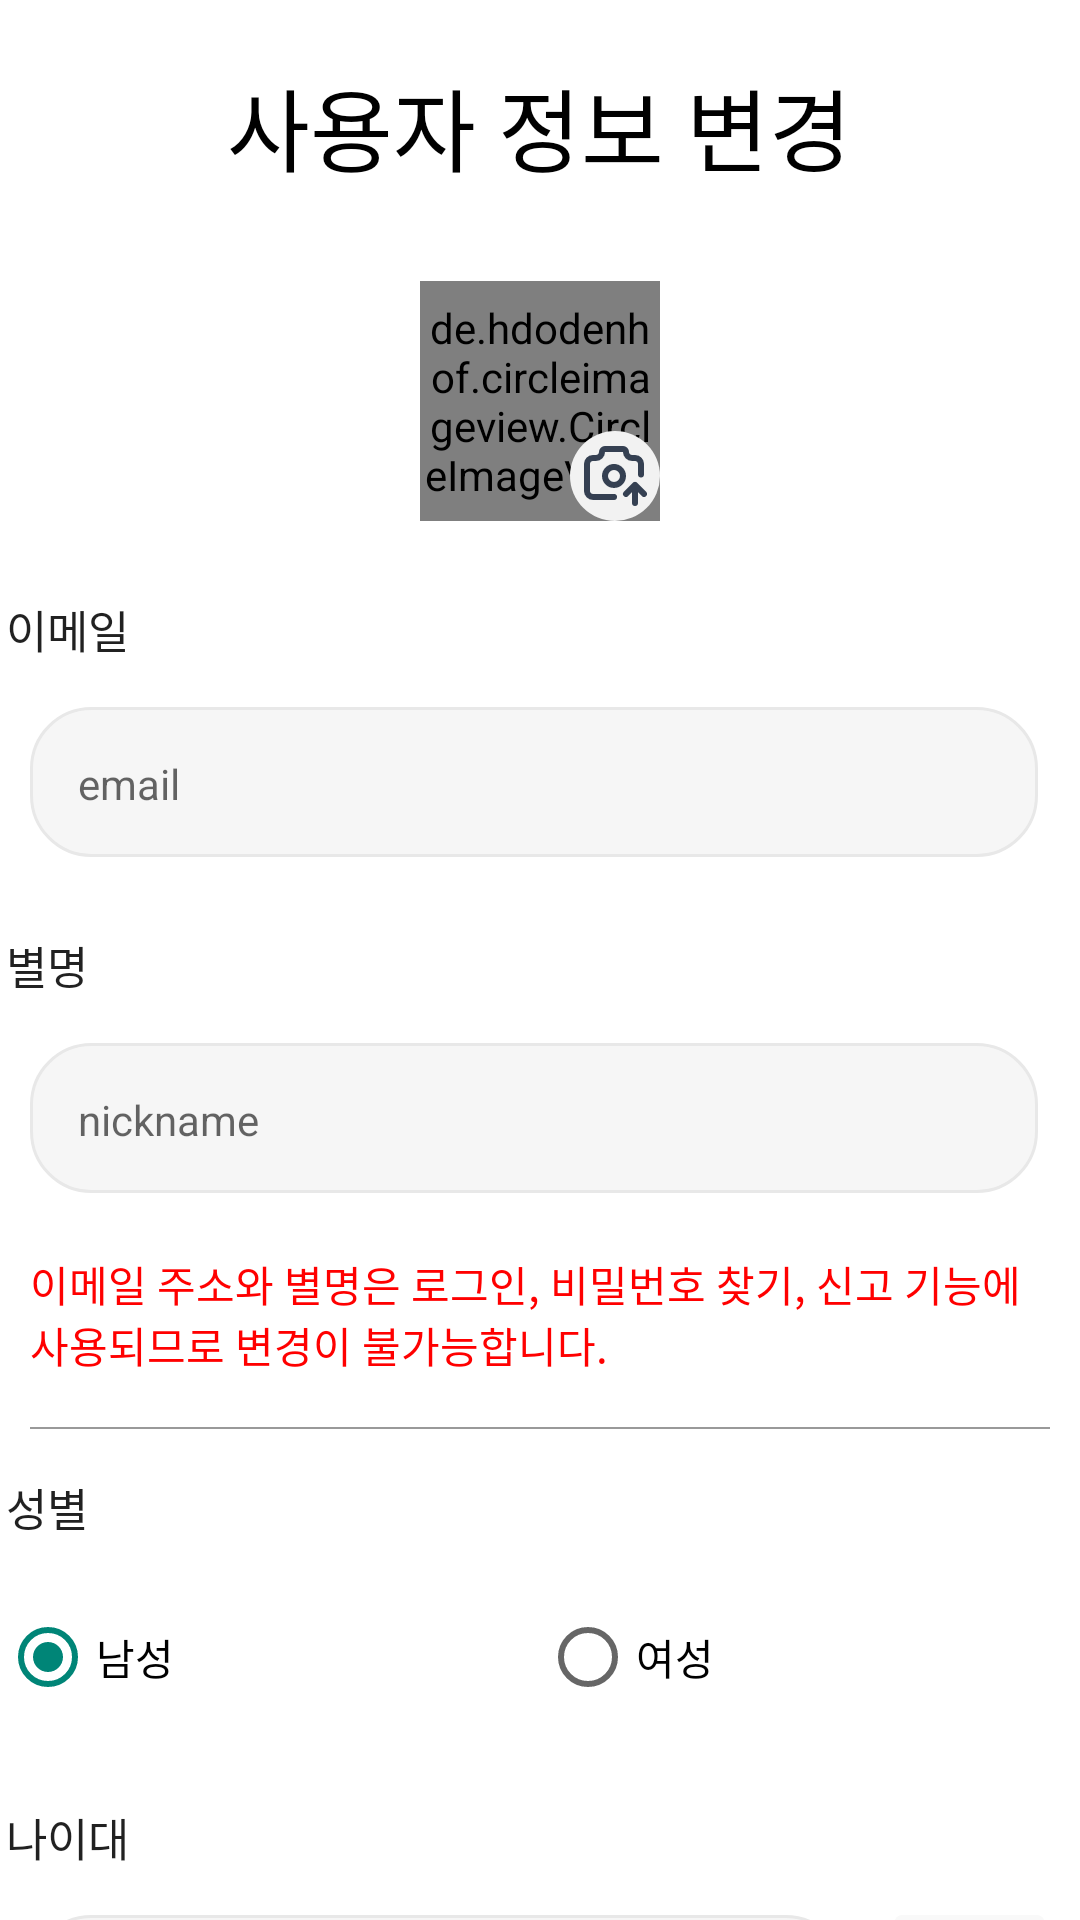

Icons on this 1080w x 1920h Android screen, each with the point to tap as (x=x, y=y):
camera: (x=615, y=476)
